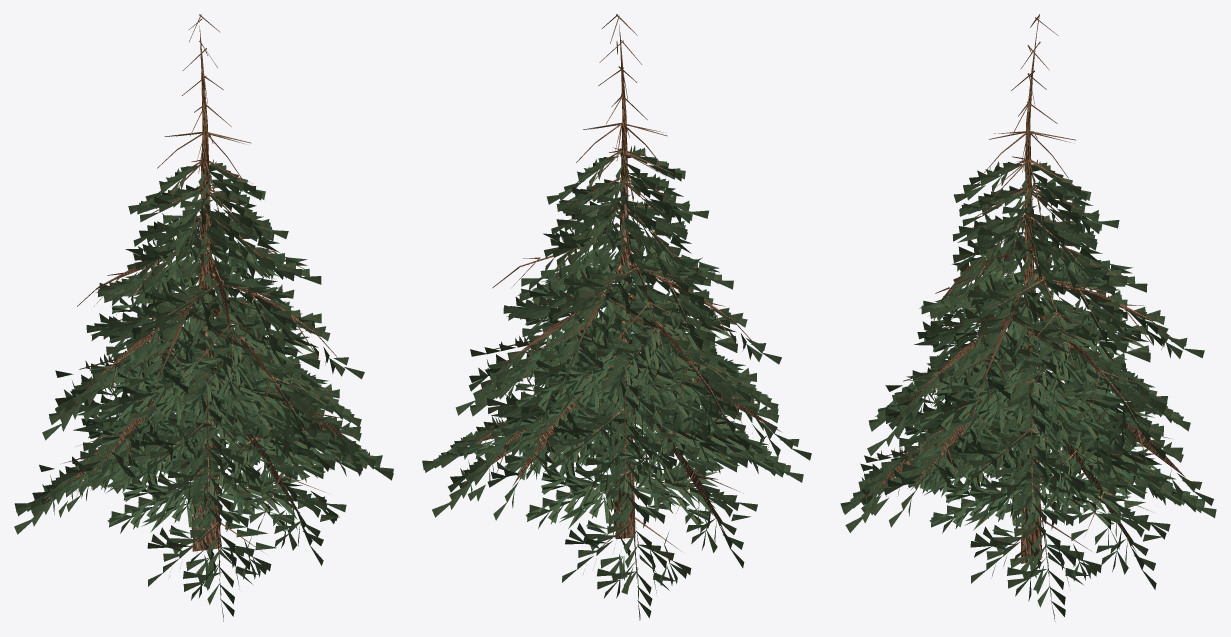
The model's file is pine_6.obj.
3 views of the same model, side by side, from view 1: azimuth 30°, elevation 25°; view 2: azimuth 150°, elevation 25°; view 3: azimuth 270°, elevation 25° (orthographic). The views are drawn at different scales.
Parts seen in each view (by area): view 1: pine_0.002_nadeln.001, pine_0.002_ast1a.001, pine_0.002_QT_branch.001; view 2: pine_0.002_nadeln.001, pine_0.002_ast1a.001, pine_0.002_QT_branch.001; view 3: pine_0.002_nadeln.001, pine_0.002_ast1a.001, pine_0.002_QT_branch.001.
Boxes of the visible parts, x1,y1,x2,y2 form: pine_0.002_nadeln.001: [14, 159, 393, 621]; pine_0.002_ast1a.001: [43, 14, 364, 576]; pine_0.002_QT_branch.001: [192, 22, 220, 551]; pine_0.002_nadeln.001: [422, 145, 811, 620]; pine_0.002_ast1a.001: [460, 14, 780, 583]; pine_0.002_QT_branch.001: [613, 24, 635, 539]; pine_0.002_nadeln.001: [840, 159, 1216, 621]; pine_0.002_ast1a.001: [865, 14, 1185, 578]; pine_0.002_QT_branch.001: [1021, 37, 1042, 563].
Size of the model in its own units: 3.9 by 5.58 by 3.49.
3 materials, 3 textured.
